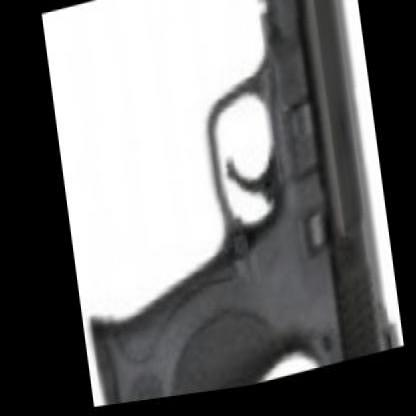pistol: (50, 0, 401, 409)
